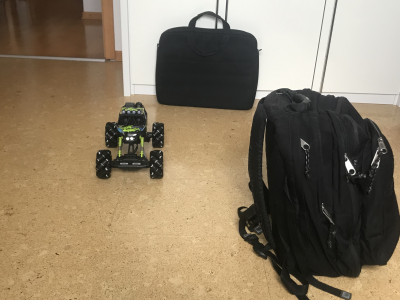remote control car: (95, 99, 166, 185)
